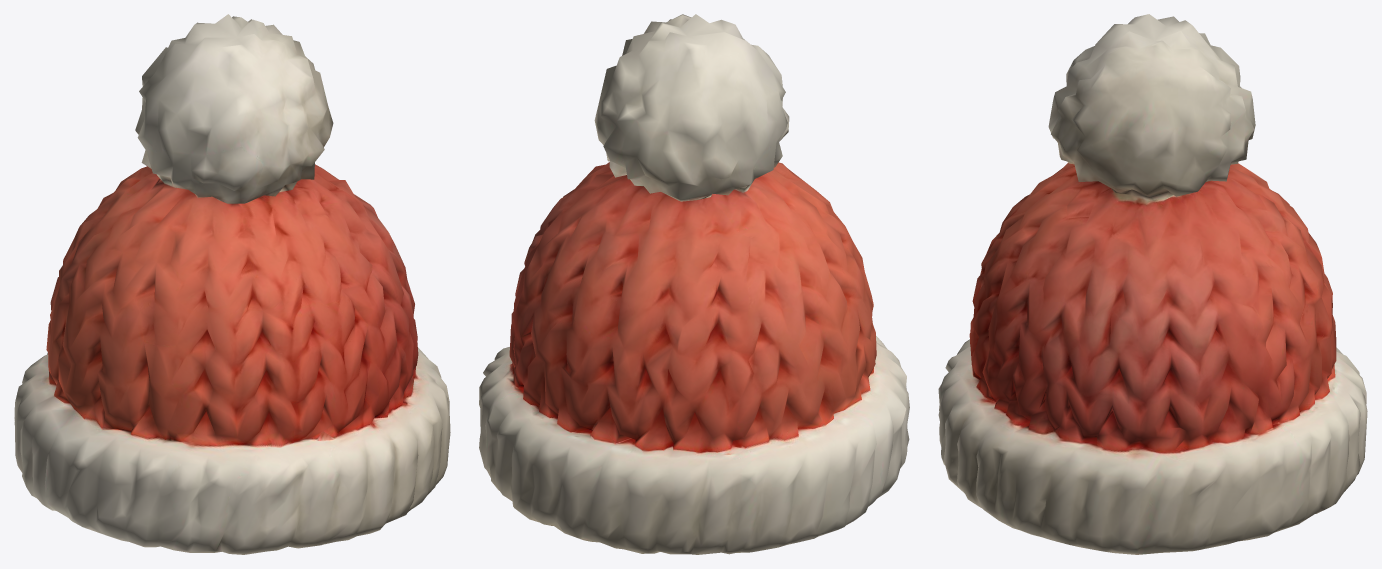
File: aks-bere1.glb
3 renders of one model, left to right at view 1: azimuth 30°, elevation 25°; view 2: azimuth 150°, elevation 25°; view 3: azimuth 270°, elevation 25°, orthographic.
Visible parts, largest first — view 1: aks; view 2: aks; view 3: aks.
Boxes of the visible parts, x1,y1,x2,y2 form: aks: (14,14,450,554); aks: (479,14,909,554); aks: (938,14,1367,554).
Size of the model in its own units: 0.8585 by 0.987 by 0.8544.
Materials: 1 (1 with a texture image).
